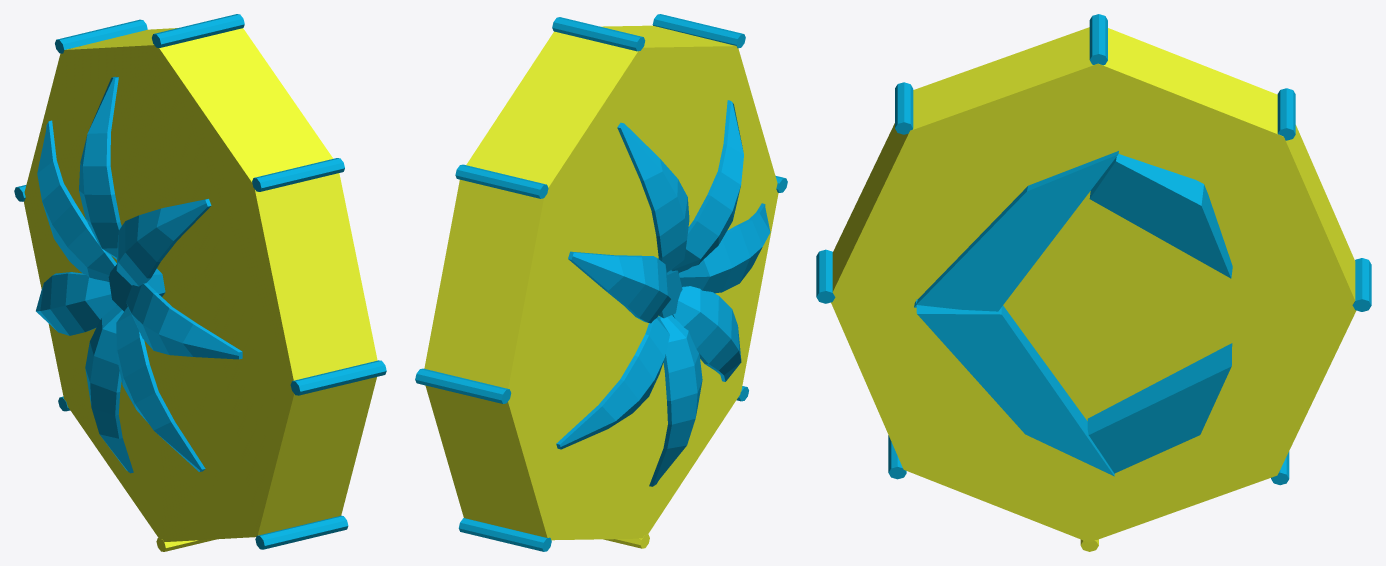
The model's file is coin.fbx.
3 renders of one model, left to right at view 1: azimuth 30°, elevation 25°; view 2: azimuth 150°, elevation 25°; view 3: azimuth 270°, elevation 25°, orthographic. The views are drawn at different scales.
Visible parts, largest first — view 1: coin; view 2: coin; view 3: coin.
Part boxes in pixels (bbox=[...]): coin: bbox=[14, 14, 386, 551]; coin: bbox=[415, 14, 787, 551]; coin: bbox=[816, 14, 1371, 551].
Bounding box in the file's own units: 0.7928 × 2.08 × 2.1.
